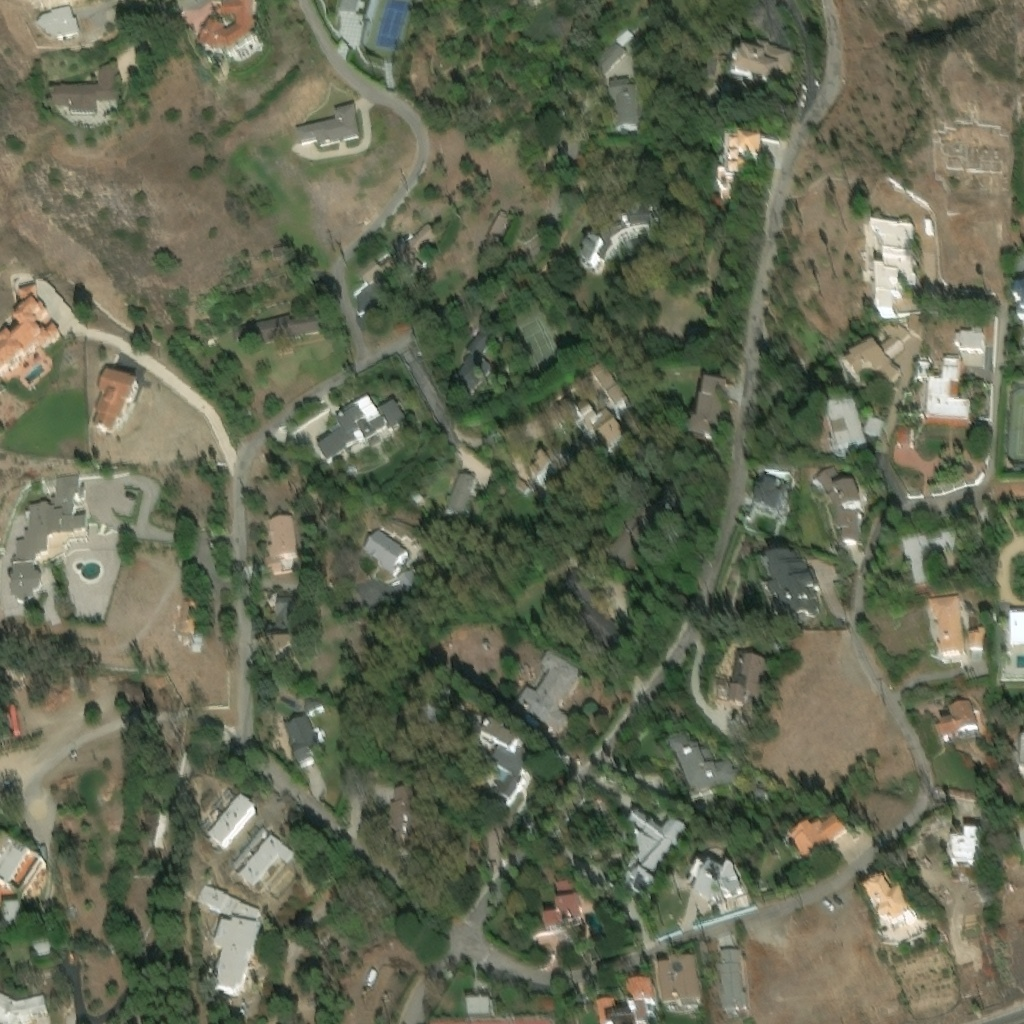0 no-damage: (9, 471, 87, 604), (457, 704, 541, 802), (609, 810, 691, 903), (194, 882, 262, 994), (509, 648, 584, 733), (317, 396, 407, 465), (0, 284, 62, 379), (844, 315, 923, 387), (668, 730, 743, 799), (601, 498, 668, 573), (578, 209, 656, 273), (0, 831, 47, 934), (903, 528, 982, 587), (872, 219, 917, 318), (230, 827, 298, 887), (762, 548, 821, 617), (235, 309, 322, 354), (813, 465, 863, 542), (54, 66, 119, 117), (201, 788, 257, 847), (196, 1, 257, 55), (387, 222, 437, 285), (693, 379, 741, 444), (447, 329, 492, 397), (92, 368, 139, 433), (863, 876, 917, 931), (788, 815, 846, 866), (283, 698, 326, 766), (295, 102, 358, 148), (926, 351, 968, 420), (730, 37, 791, 84), (572, 402, 627, 453), (691, 861, 744, 913), (720, 138, 763, 202), (716, 653, 766, 708), (352, 249, 393, 316), (824, 398, 869, 459), (596, 982, 659, 1023), (658, 958, 704, 1014), (588, 361, 632, 415), (579, 610, 629, 657), (262, 516, 300, 576), (388, 786, 423, 851), (928, 596, 966, 654), (590, 26, 633, 76), (543, 882, 584, 933), (362, 529, 409, 573), (935, 701, 979, 745), (720, 948, 749, 1014), (751, 469, 793, 514), (606, 76, 640, 131), (35, 4, 82, 40), (445, 472, 479, 520), (114, 676, 156, 714), (407, 50, 437, 101), (0, 994, 51, 1023), (566, 568, 603, 602), (952, 828, 982, 863), (953, 328, 983, 359), (525, 449, 554, 480), (274, 594, 298, 631), (466, 994, 496, 1017), (489, 210, 508, 240), (152, 811, 168, 845), (3, 705, 20, 735), (1009, 613, 1023, 646), (33, 941, 55, 961), (398, 569, 418, 590), (278, 690, 300, 709), (867, 417, 886, 438), (1013, 279, 1023, 317), (337, 0, 361, 14), (968, 628, 984, 648), (534, 992, 553, 1007), (916, 360, 928, 378), (755, 784, 766, 798), (183, 600, 197, 608)
4 un-classified: (965, 915, 979, 935), (191, 634, 201, 649), (938, 925, 950, 937)
